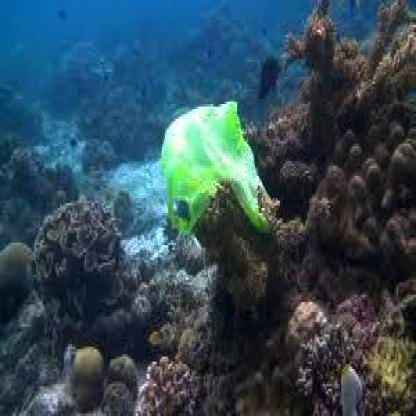pbag: (159, 99, 272, 238)
